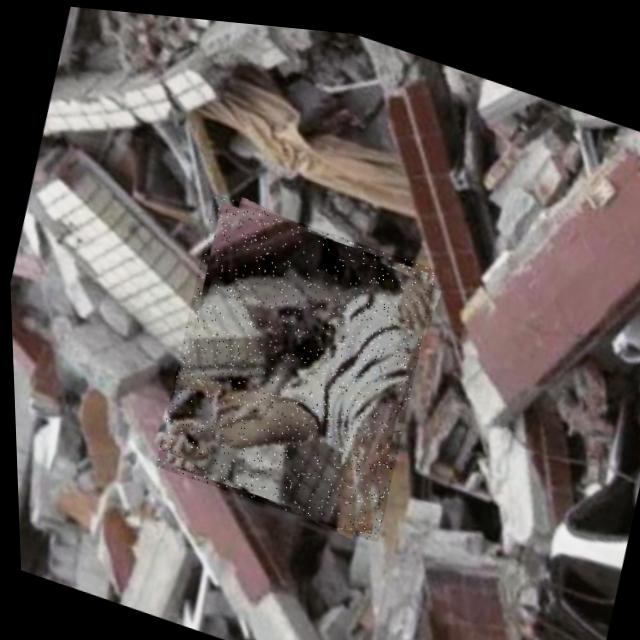Person in Rubble: (144, 183, 443, 539)
